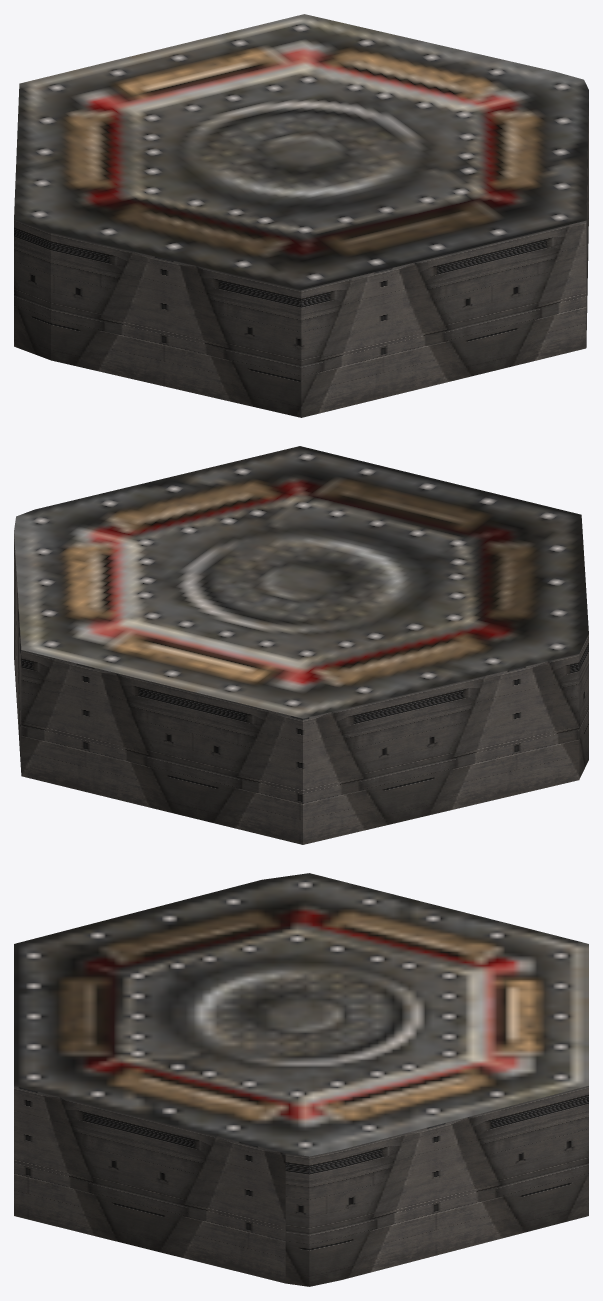
Rendered from gun_emplacement_heavy_a_01.glb.
3 renders of one model, top to bottom at view 1: azimuth 30°, elevation 25°; view 2: azimuth 150°, elevation 25°; view 3: azimuth 270°, elevation 25°, orthographic. The views are drawn at different scales.
Parts seen in each view (by area): view 1: buildings/saxarba/gun_emplacement/gun_emplacement_heavy_a_01; view 2: buildings/saxarba/gun_emplacement/gun_emplacement_heavy_a_01; view 3: buildings/saxarba/gun_emplacement/gun_emplacement_heavy_a_01.
Boxes of the visible parts, x1,y1,x2,y2 form: buildings/saxarba/gun_emplacement/gun_emplacement_heavy_a_01: (14, 14, 588, 417); buildings/saxarba/gun_emplacement/gun_emplacement_heavy_a_01: (14, 446, 588, 844); buildings/saxarba/gun_emplacement/gun_emplacement_heavy_a_01: (14, 873, 588, 1286).
Size of the model in its own units: 84 by 18 by 72.
